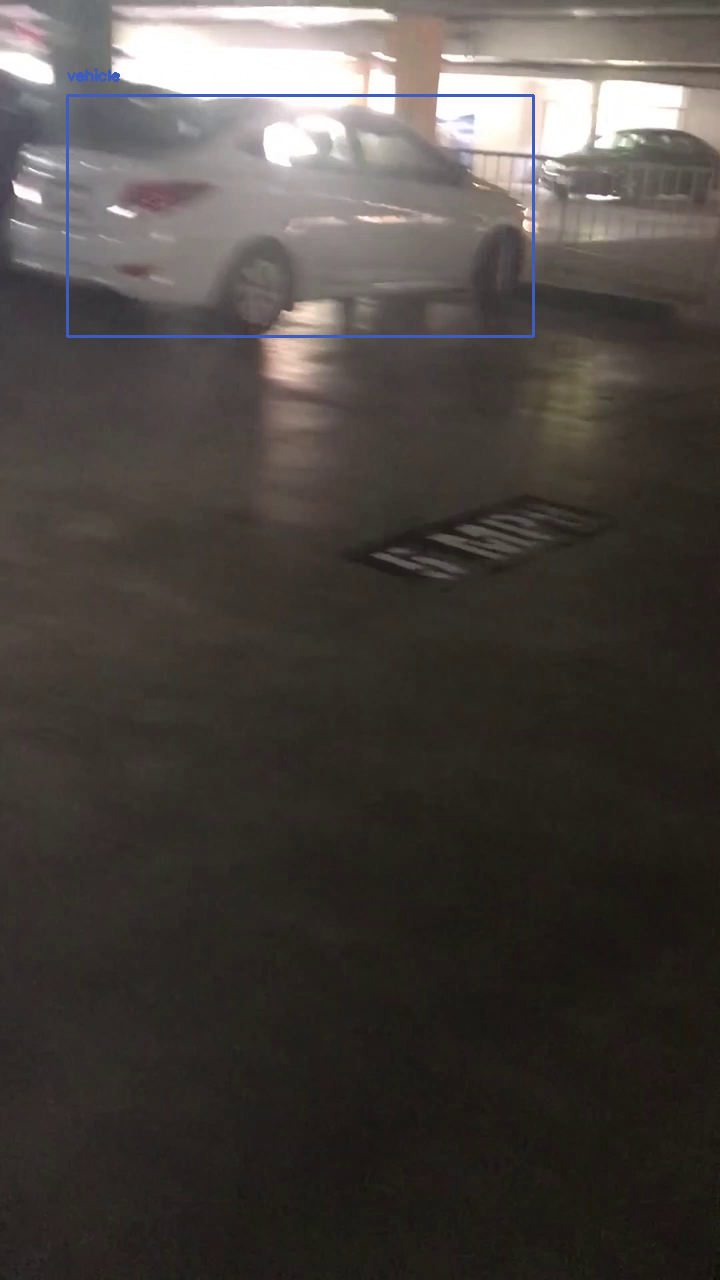vehicle: (67, 95, 533, 336)
